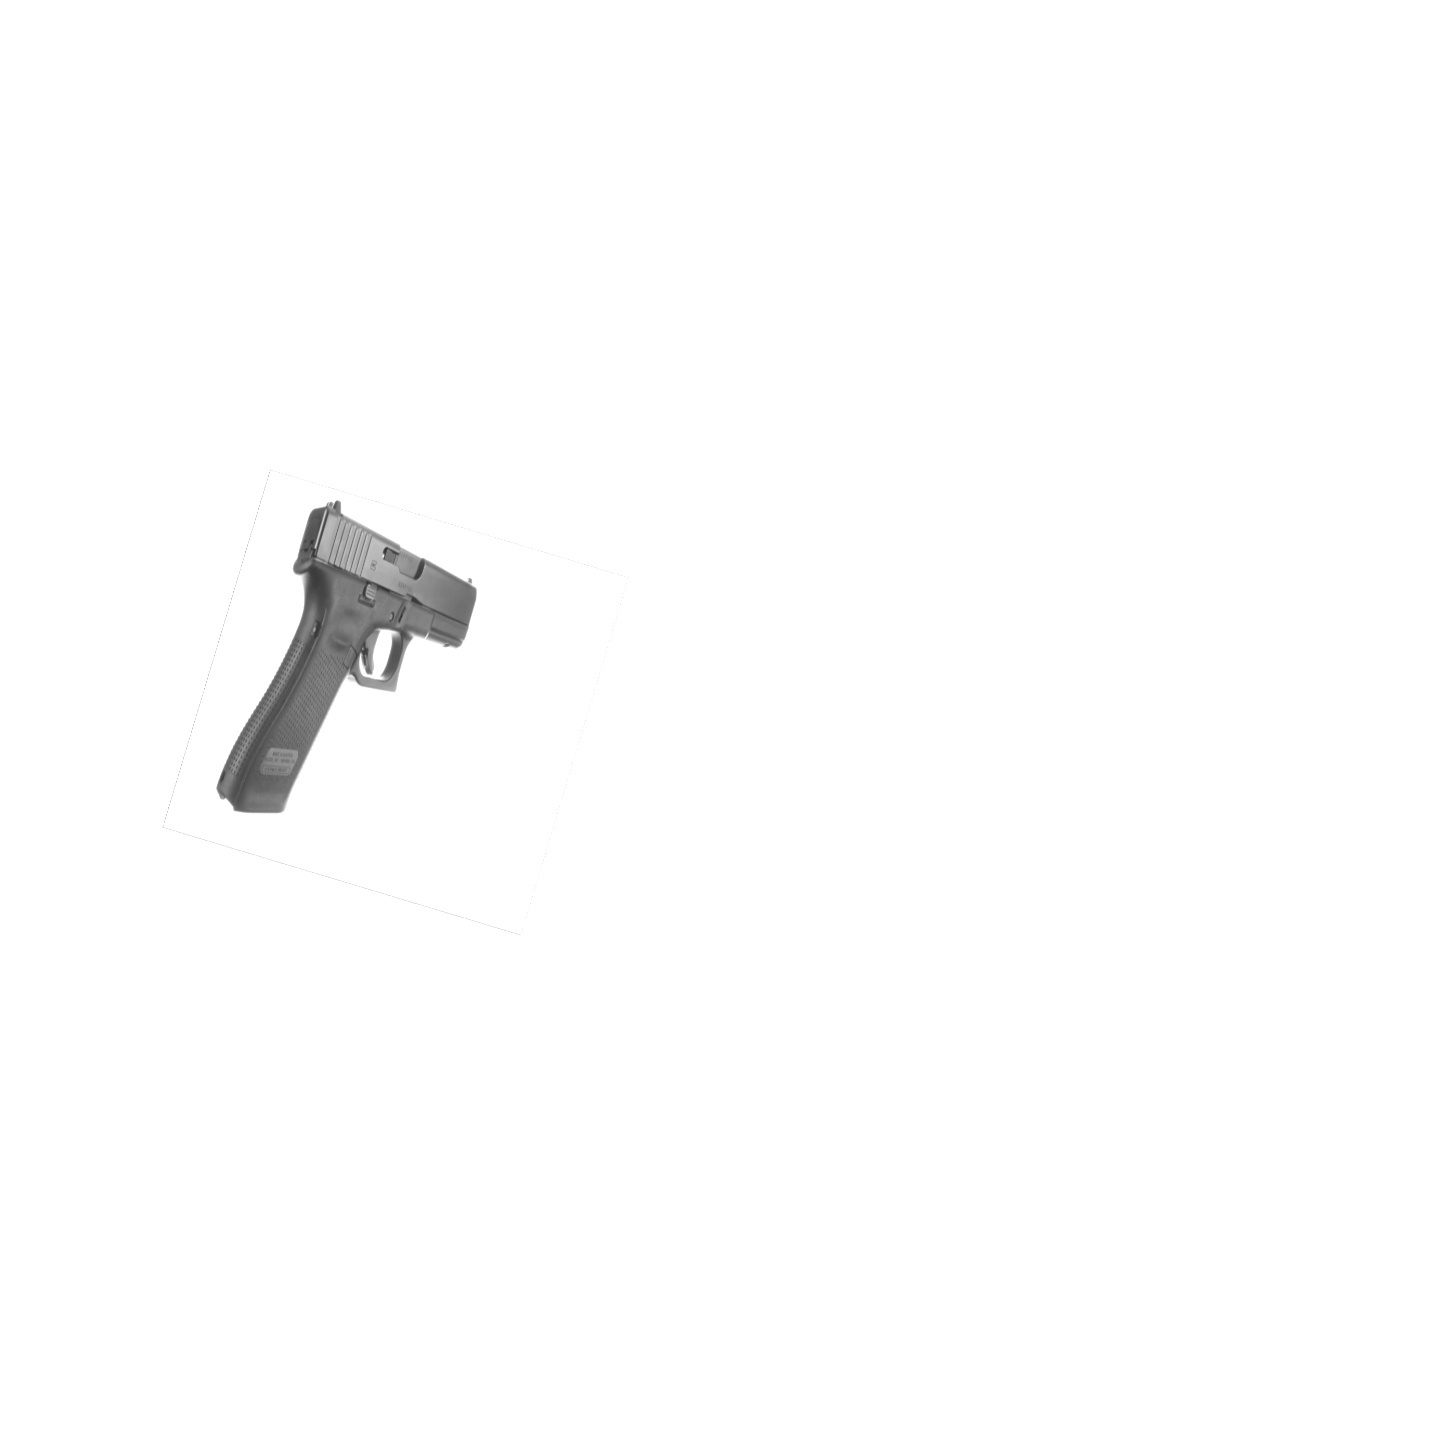gun: (209, 490, 478, 819)
